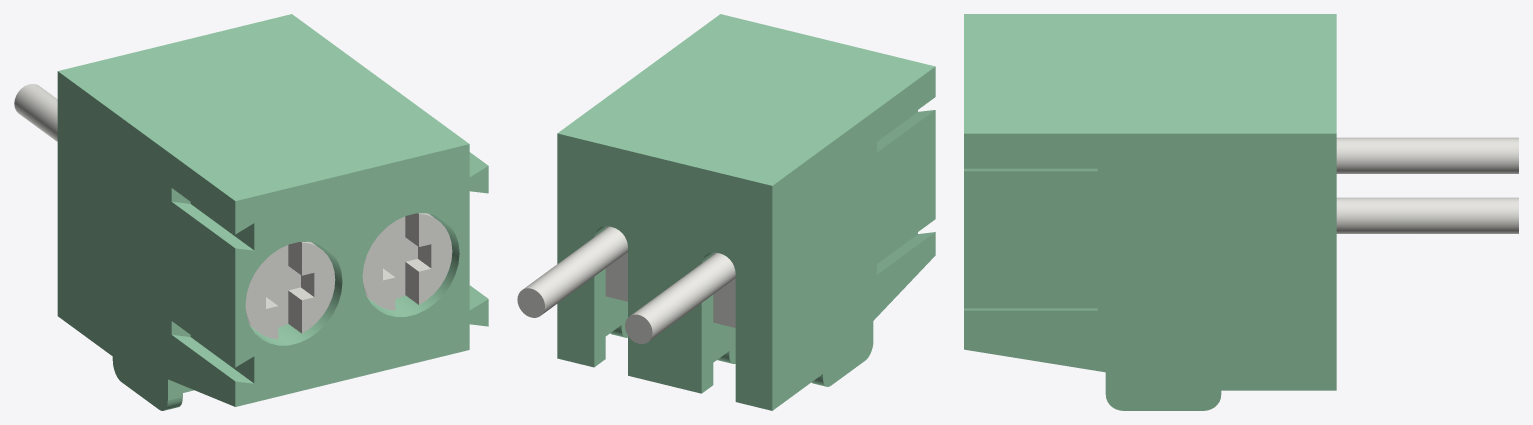
File: TerminalBlock_Phoenix_PT-1,5-2-3.5-H_1x02_P3.50mm_Horizontal.glb
The picture shows the model from 3 angles, left to right: view 1: azimuth 30°, elevation 25°; view 2: azimuth 150°, elevation 25°; view 3: azimuth 270°, elevation 25°; orthographic projection. The views are drawn at different scales.
Parts seen in each view (by area): view 1: Shape_IndexedFaceSet.001, Shape_IndexedFaceSet.002, Shape_IndexedFaceSet.017, Shape_IndexedFaceSet.105, Shape_IndexedFaceSet.098, Shape_IndexedFaceSet.102, Shape_IndexedFaceSet.109, Shape_IndexedFaceSet.067, Shape_IndexedFaceSet.055, Shape_IndexedFaceSet.056, Shape_IndexedFaceSet.100, Shape_IndexedFaceSet.107 (+6 smaller); view 2: Shape_IndexedFaceSet, Shape_IndexedFaceSet.001, Shape_IndexedFaceSet.002, Shape_IndexedFaceSet.067, Shape_IndexedFaceSet.062, Shape_IndexedFaceSet.011, Shape_IndexedFaceSet.005, Shape_IndexedFaceSet.048, Shape_IndexedFaceSet.042, Shape_IndexedFaceSet.046, Shape_IndexedFaceSet.040, Shape_IndexedFaceSet.089 (+3 smaller); view 3: Shape_IndexedFaceSet.003, Shape_IndexedFaceSet.002, Shape_IndexedFaceSet.062, Shape_IndexedFaceSet.067, Shape_IndexedFaceSet.053, Shape_IndexedFaceSet.054, Shape_IndexedFaceSet.038.
Part boxes in pixels (<box>): Shape_IndexedFaceSet.001: <box>57,71,235,410</box>; Shape_IndexedFaceSet.002: <box>58,14,468,200</box>; Shape_IndexedFaceSet.017: <box>235,144,488,406</box>; Shape_IndexedFaceSet.105: <box>419,214,452,304</box>; Shape_IndexedFaceSet.098: <box>302,242,335,333</box>; Shape_IndexedFaceSet.102: <box>245,250,278,339</box>; Shape_IndexedFaceSet.109: <box>362,221,395,310</box>; Shape_IndexedFaceSet.067: <box>14,84,57,141</box>; Shape_IndexedFaceSet.055: <box>250,242,342,345</box>; Shape_IndexedFaceSet.056: <box>368,214,459,316</box>; Shape_IndexedFaceSet.100: <box>266,245,300,327</box>; Shape_IndexedFaceSet.107: <box>383,216,417,298</box>; Shape_IndexedFaceSet: <box>557,133,772,410</box>; Shape_IndexedFaceSet.001: <box>772,66,935,410</box>; Shape_IndexedFaceSet.002: <box>557,14,935,185</box>; Shape_IndexedFaceSet.067: <box>631,252,735,340</box>; Shape_IndexedFaceSet.062: <box>524,226,627,314</box>; Shape_IndexedFaceSet.011: <box>701,295,713,393</box>; Shape_IndexedFaceSet.005: <box>594,268,605,366</box>; Shape_IndexedFaceSet.048: <box>713,252,735,327</box>; Shape_IndexedFaceSet.042: <box>605,226,627,301</box>; Shape_IndexedFaceSet.046: <box>713,322,735,363</box>; Shape_IndexedFaceSet.040: <box>605,296,627,337</box>; Shape_IndexedFaceSet.089: <box>625,314,652,343</box>; Shape_IndexedFaceSet.003: <box>964,133,1336,410</box>; Shape_IndexedFaceSet.002: <box>964,14,1336,133</box>; Shape_IndexedFaceSet.062: <box>1336,197,1518,233</box>; Shape_IndexedFaceSet.067: <box>1336,137,1518,173</box>; Shape_IndexedFaceSet.053: <box>964,310,1097,339</box>; Shape_IndexedFaceSet.054: <box>964,171,1097,200</box>; Shape_IndexedFaceSet.038: <box>964,168,1097,171</box>.
Bounding box in the file's own units: 2.98 × 2.97 × 5.39.
